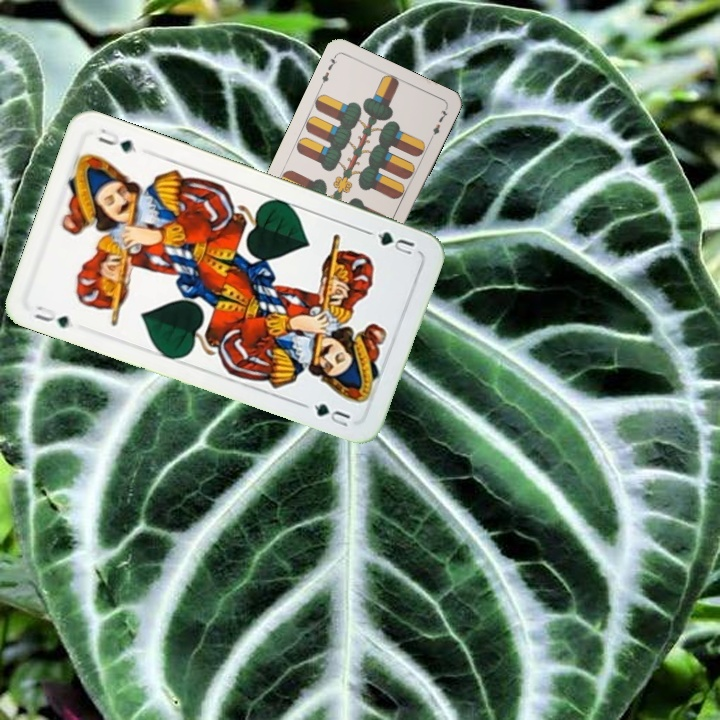E7: (316, 51, 339, 90)
GU: (373, 227, 417, 259), (30, 301, 72, 331)
